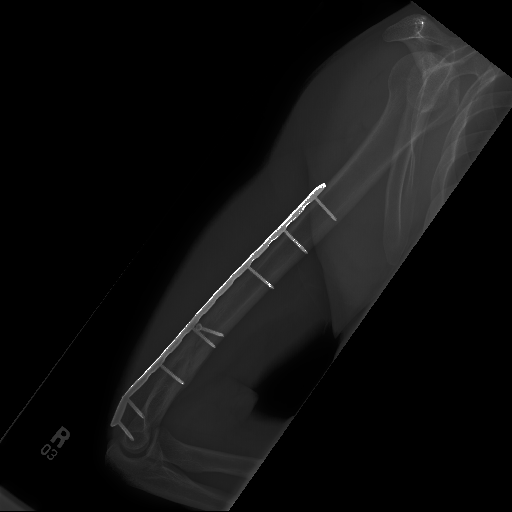implant: (110, 182, 339, 441)
